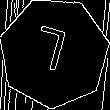L_S: (32, 25, 76, 81)
